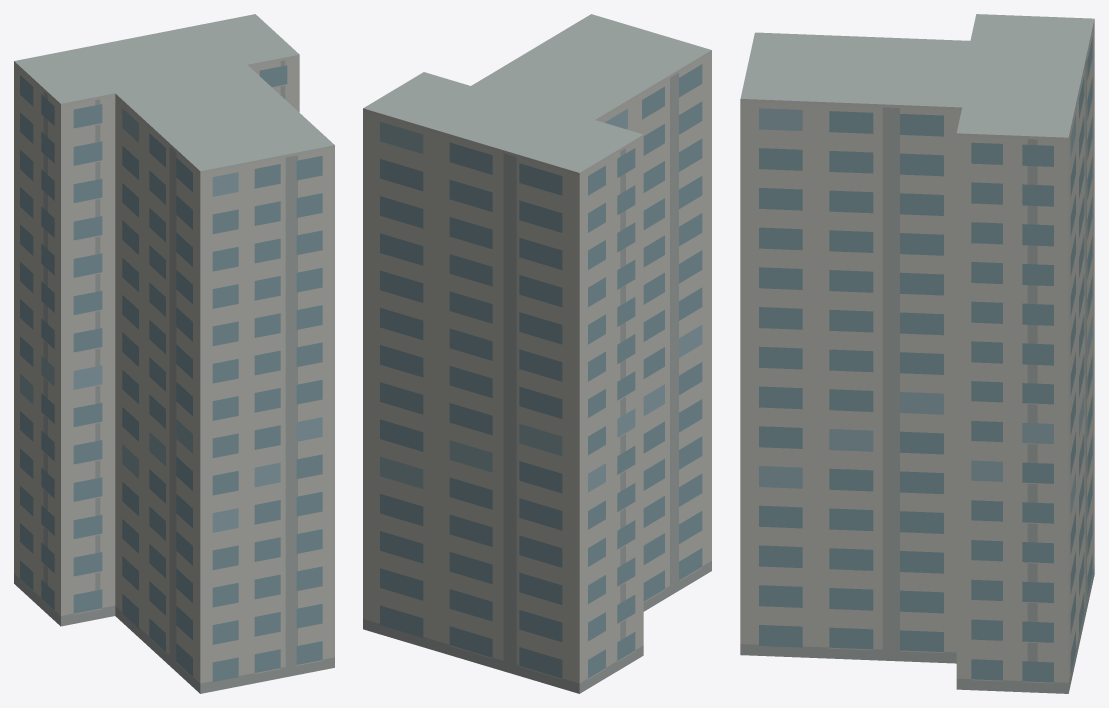
Rendered from residential-00fef0b2-e619-484c-8f22-5771e07fe35c.glb.
3 views of the same model, side by side, from view 1: azimuth 30°, elevation 25°; view 2: azimuth 150°, elevation 25°; view 3: azimuth 270°, elevation 25° (orthographic). The views are drawn at different scales.
Parts seen in each view (by area): view 1: residential-00fef0b2-e619-484c-8f22-5771e07fe35c.tmp; view 2: residential-00fef0b2-e619-484c-8f22-5771e07fe35c.tmp; view 3: residential-00fef0b2-e619-484c-8f22-5771e07fe35c.tmp.
Part boxes in pixels (x1,y1,x2,y2): residential-00fef0b2-e619-484c-8f22-5771e07fe35c.tmp: (14, 14, 334, 693); residential-00fef0b2-e619-484c-8f22-5771e07fe35c.tmp: (363, 14, 711, 693); residential-00fef0b2-e619-484c-8f22-5771e07fe35c.tmp: (740, 14, 1094, 693).
Bounding box in the file's own units: 20.51 × 43 × 24.81.
